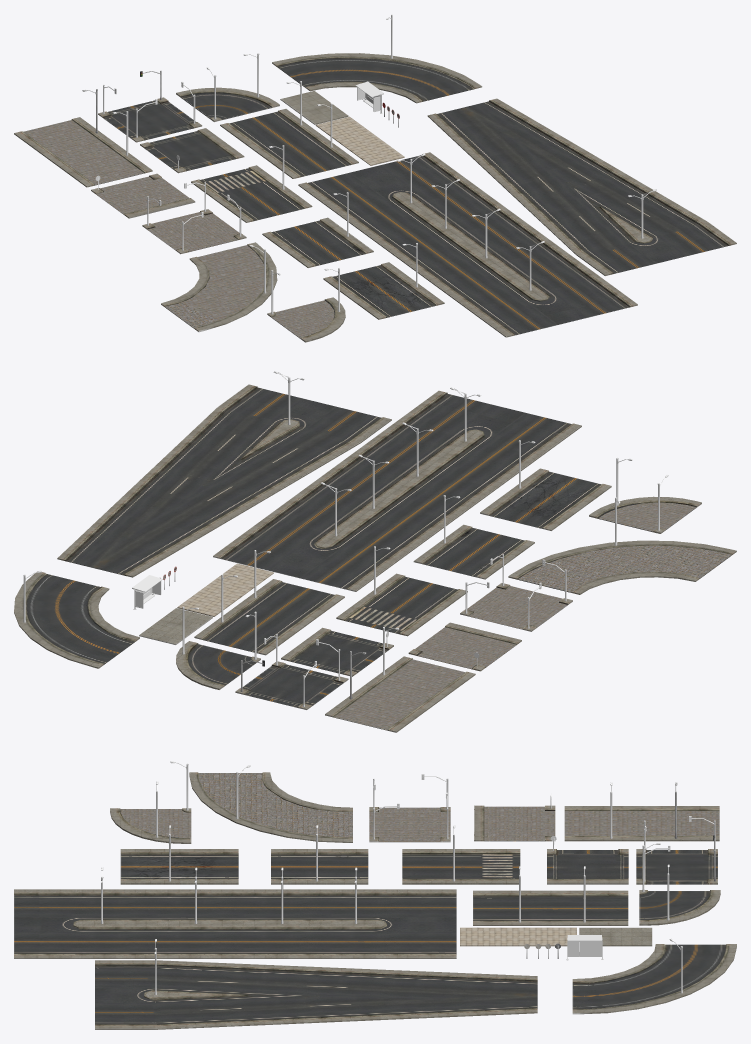
The picture shows the model from 3 angles, top to bottom: view 1: azimuth 30°, elevation 25°; view 2: azimuth 150°, elevation 25°; view 3: azimuth 270°, elevation 25°; orthographic projection. The views are drawn at different scales.
Visible parts, largest first — view 1: _gltfNode_72_6, _gltfNode_86_4, _gltfNode_82_46, _gltfNode_24_56, _gltfNode_4_60, _gltfNode_66_68, _gltfNode_56_50, _gltfNode_50_62, _gltfNode_52_48, _gltfNode_44_66, _gltfNode_10_54, _gltfNode_14_52 (+5 smaller); view 2: _gltfNode_72_6, _gltfNode_86_4, _gltfNode_24_56, _gltfNode_82_46, _gltfNode_4_60, _gltfNode_66_68, _gltfNode_56_50, _gltfNode_50_62, _gltfNode_52_48, _gltfNode_10_54, _gltfNode_34_2, _gltfNode_14_52 (+5 smaller); view 3: _gltfNode_72_6, _gltfNode_86_4, _gltfNode_82_46, _gltfNode_24_56, _gltfNode_66_68, _gltfNode_4_60, _gltfNode_56_50, _gltfNode_50_62, _gltfNode_52_48, _gltfNode_10_54, _gltfNode_14_52, _gltfNode_44_66 (+6 smaller).
Boxes of the visible parts, <box> form: _gltfNode_72_6: <box>298,152,637,337</box>; _gltfNode_86_4: <box>427,98,736,275</box>; _gltfNode_82_46: <box>272,53,482,103</box>; _gltfNode_24_56: <box>161,242,277,332</box>; _gltfNode_4_60: <box>14,117,152,187</box>; _gltfNode_66_68: <box>220,109,358,178</box>; _gltfNode_56_50: <box>323,262,444,319</box>; _gltfNode_50_62: <box>191,165,312,222</box>; _gltfNode_52_48: <box>262,217,373,267</box>; _gltfNode_44_66: <box>140,128,244,173</box>; _gltfNode_10_54: <box>91,173,195,218</box>; _gltfNode_14_52: <box>142,209,246,254</box>; _gltfNode_72_6: <box>213,390,581,591</box>; _gltfNode_86_4: <box>57,384,391,577</box>; _gltfNode_24_56: <box>508,540,736,594</box>; _gltfNode_82_46: <box>14,571,139,668</box>; _gltfNode_4_60: <box>325,656,475,732</box>; _gltfNode_66_68: <box>194,579,344,655</box>; _gltfNode_56_50: <box>480,468,611,530</box>; _gltfNode_50_62: <box>336,573,467,636</box>; _gltfNode_52_48: <box>413,524,534,579</box>; _gltfNode_10_54: <box>408,622,521,671</box>; _gltfNode_34_2: <box>235,661,348,709</box>; _gltfNode_14_52: <box>460,583,572,631</box>; _gltfNode_72_6: <box>14,889,456,958</box>; _gltfNode_86_4: <box>95,960,537,1029</box>; _gltfNode_82_46: <box>572,944,736,1014</box>; _gltfNode_24_56: <box>189,772,352,842</box>; _gltfNode_66_68: <box>473,890,628,925</box>; _gltfNode_4_60: <box>564,806,719,841</box>; _gltfNode_56_50: <box>120,849,238,884</box>; _gltfNode_50_62: <box>402,849,520,884</box>; _gltfNode_52_48: <box>271,849,368,884</box>; _gltfNode_10_54: <box>474,805,555,841</box>; _gltfNode_14_52: <box>369,807,450,842</box>; _gltfNode_44_66: <box>547,849,628,884</box>.
Bounding box in the file's own units: 87.68 × 7.96 × 104.
2 materials, 1 textured.
